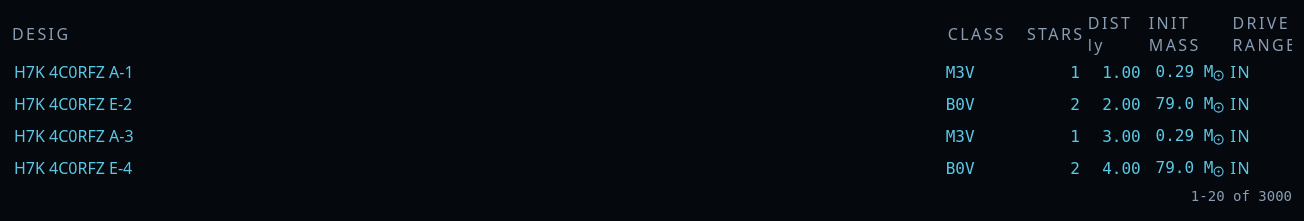
SystemList › selects the last system with End and reads its place
Click the list named "Systems by distance". click: (652, 120)
box: [12,56,1292,184]
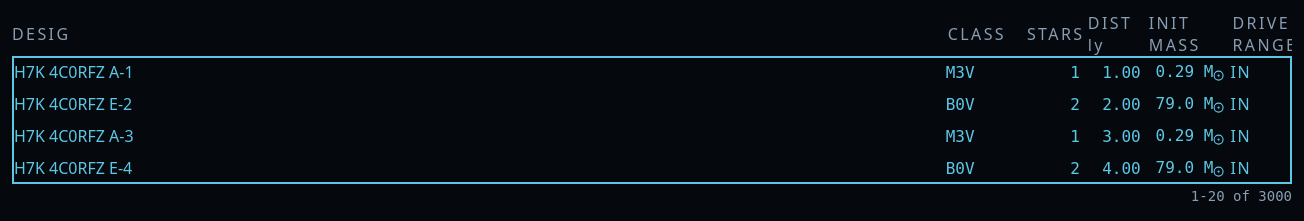
Press End
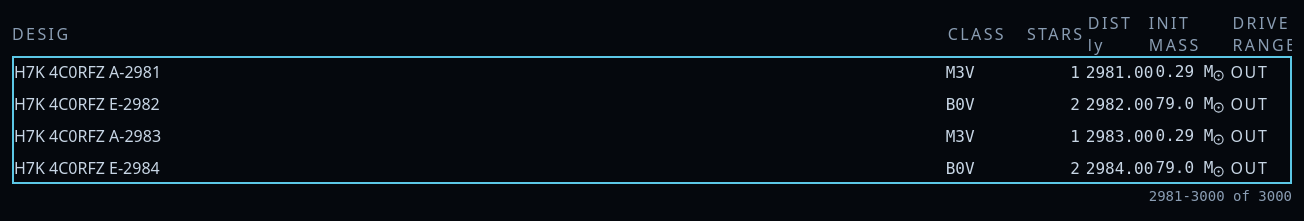
Now the text "2981-3000 of 3000" is shown, box [1149,188,1292,204]
